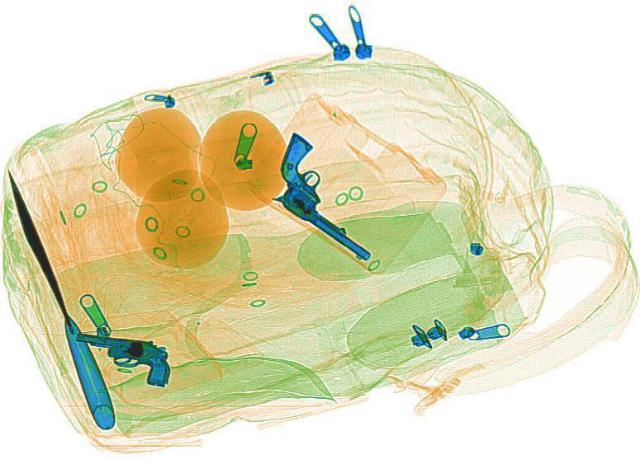Gun: (230, 131, 428, 260), (64, 331, 178, 386)
Knife: (0, 166, 118, 429)
